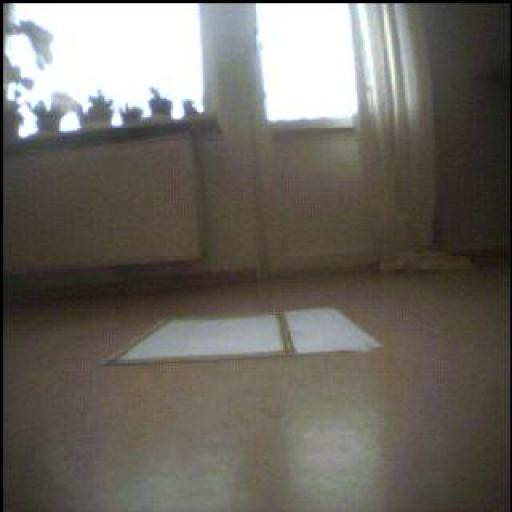Pad: (110, 304, 373, 366)
